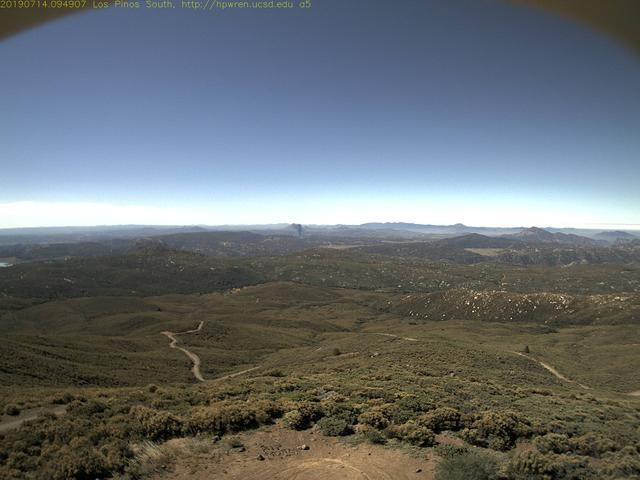Smoke: (285, 217, 307, 241)
